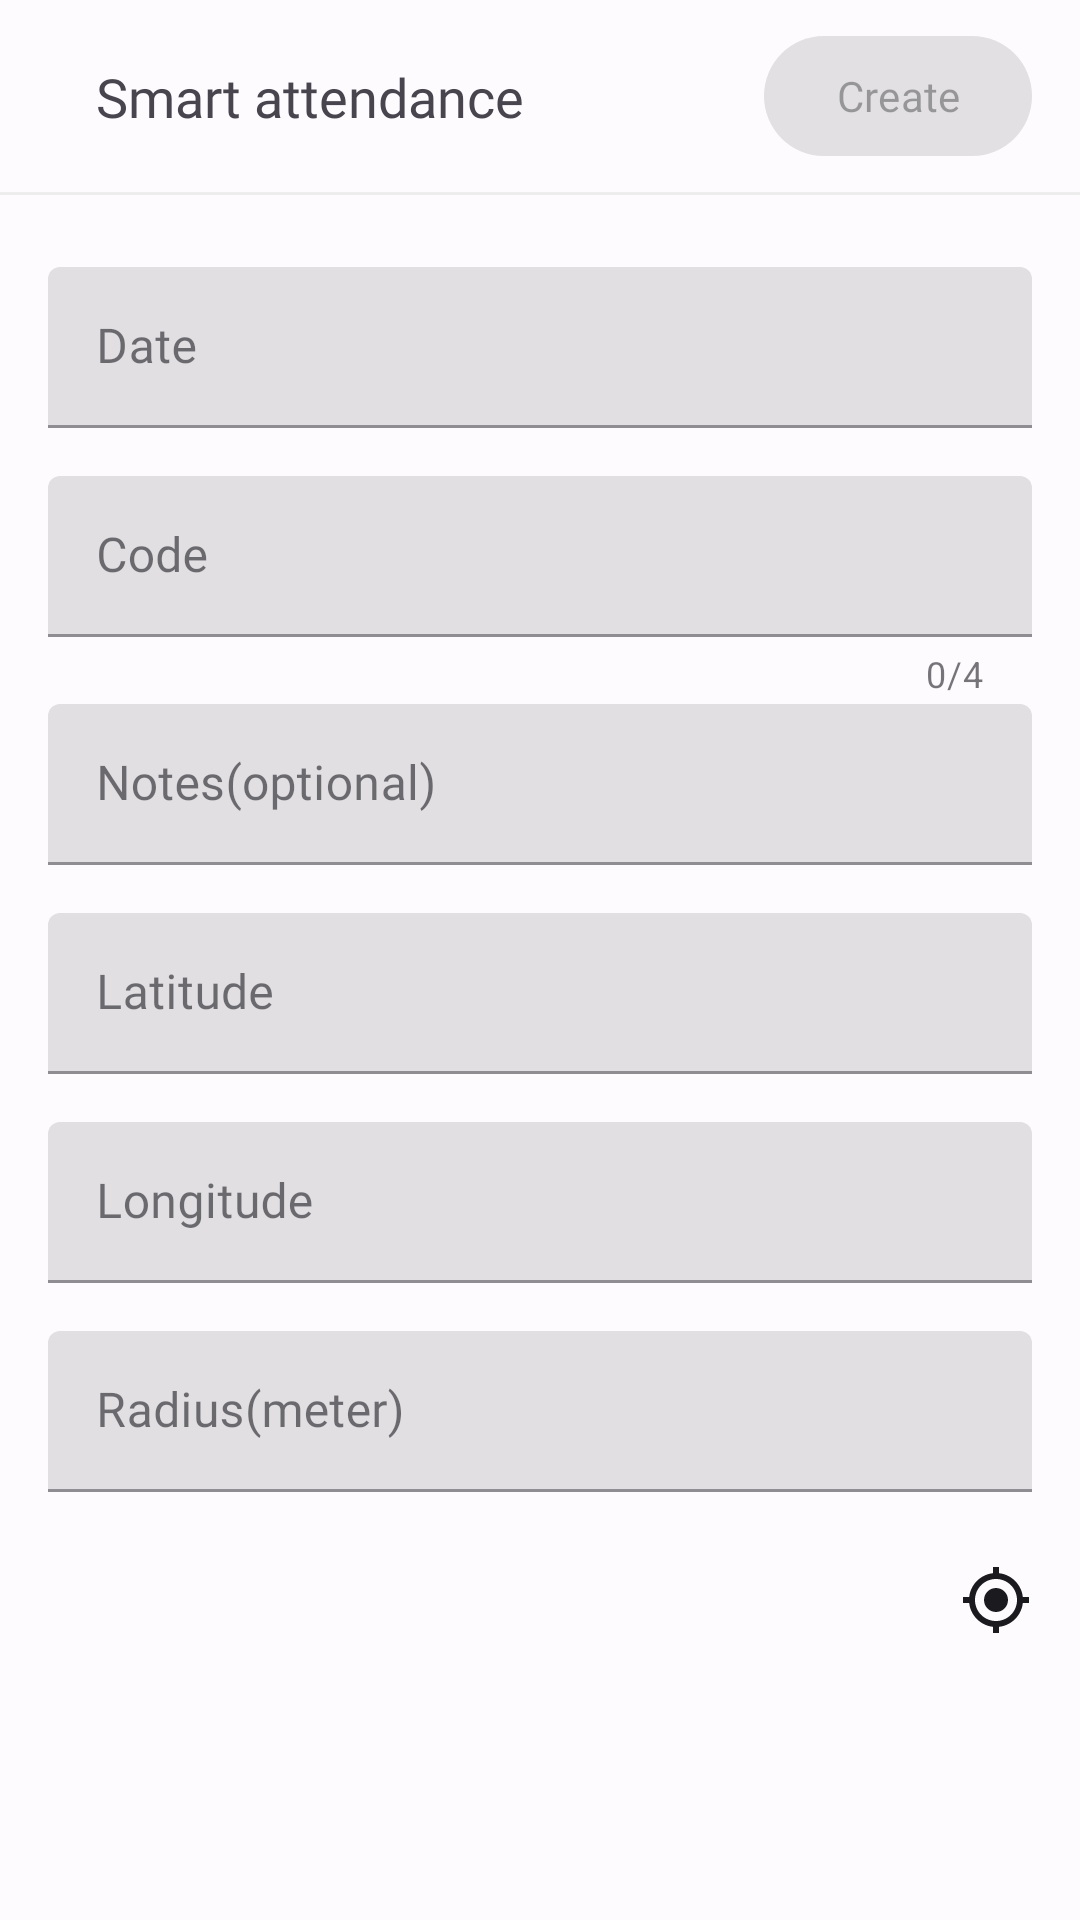

Point at icon controls on the screen. Image size 1080w x 1920h, points as [x,y].
location: [996,1600]
